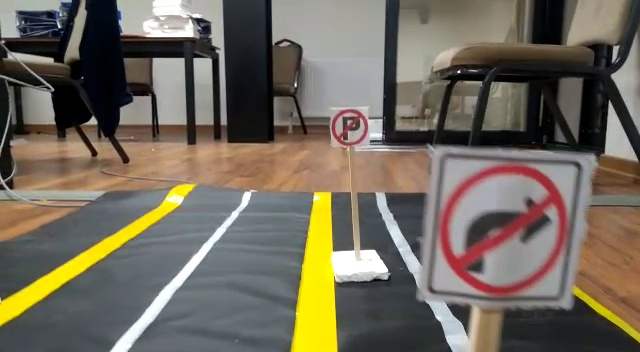park_yapilmaz: (330, 107, 370, 148)
saga_donulmez: (437, 158, 569, 298)
